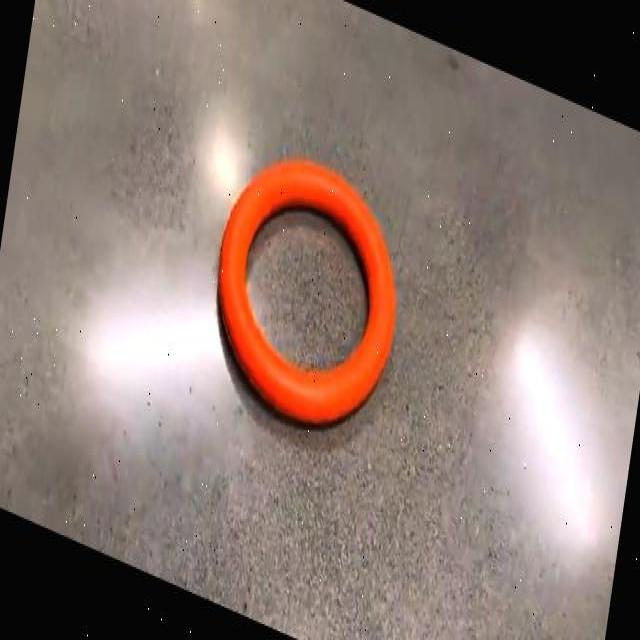note: (218, 160, 396, 422)
